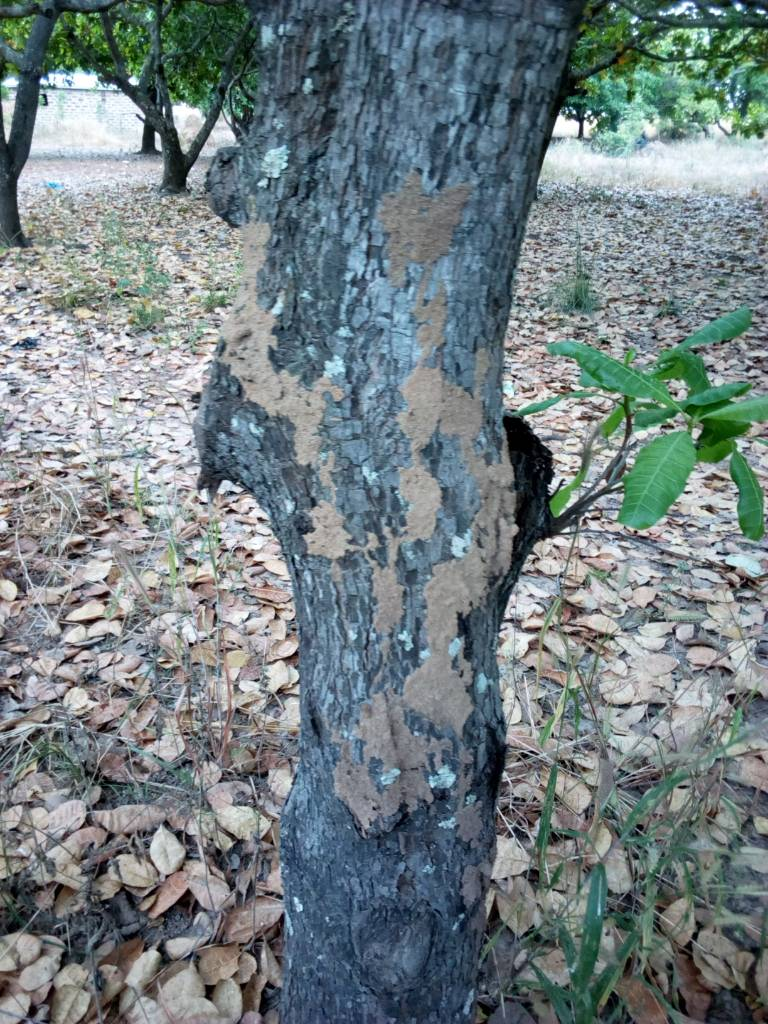Virose: (181, 158, 656, 831)
